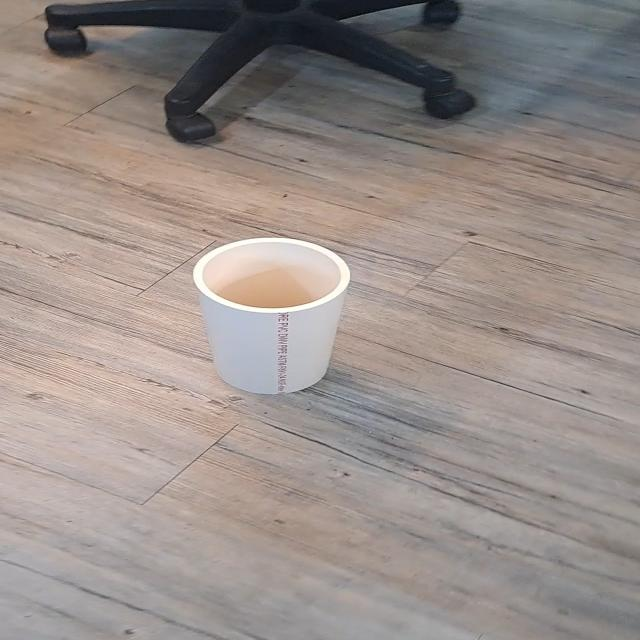CORAL: (184, 232, 364, 398)
